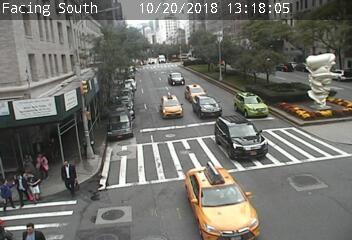car: (184, 167, 261, 240), (215, 116, 268, 160), (234, 92, 268, 117), (193, 95, 221, 117), (161, 95, 182, 119), (185, 84, 207, 103), (168, 73, 184, 85)
